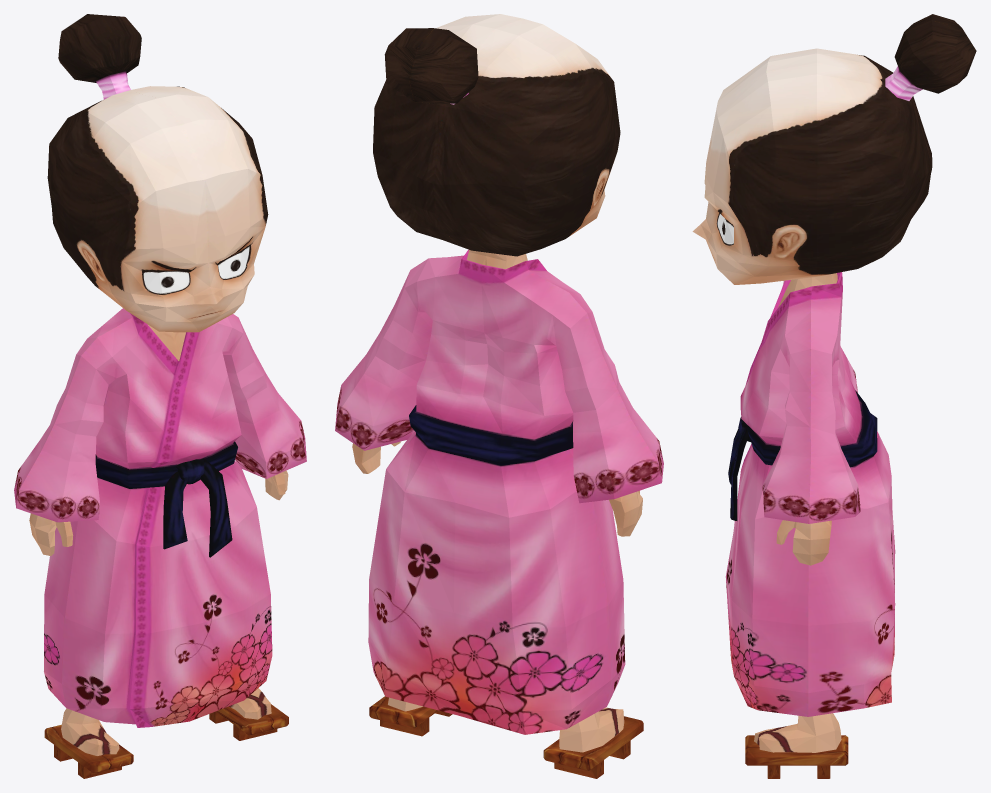
Rendered from samurai.glb.
The picture shows the model from 3 angles, left to right: view 1: azimuth 30°, elevation 25°; view 2: azimuth 150°, elevation 25°; view 3: azimuth 270°, elevation 25°; orthographic projection. The views are drawn at different scales.
Visible parts, largest first — view 1: Kimono_Kimono_0, Corpo_Corpo Momo_0, Shoes__Hair_Pantofole+Ciuffo_0; view 2: Kimono_Kimono_0, Corpo_Corpo Momo_0, Shoes__Hair_Pantofole+Ciuffo_0; view 3: Kimono_Kimono_0, Corpo_Corpo Momo_0, Shoes__Hair_Pantofole+Ciuffo_0.
Part boxes in pixels (x1,y1,x2,y2): Kimono_Kimono_0: (14,308,306,727); Corpo_Corpo Momo_0: (29,86,288,755); Shoes__Hair_Pantofole+Ciuffo_0: (44,14,288,778); Kimono_Kimono_0: (335,249,663,734); Corpo_Corpo Momo_0: (352,14,642,752); Shoes__Hair_Pantofole+Ciuffo_0: (369,28,643,778); Kimono_Kimono_0: (725,272,895,716); Corpo_Corpo Momo_0: (692,48,932,752); Shoes__Hair_Pantofole+Ciuffo_0: (745,14,976,778).
Bounding box in the file's own units: 287 × 646 × 234.
Materials: 4 (4 with a texture image).
